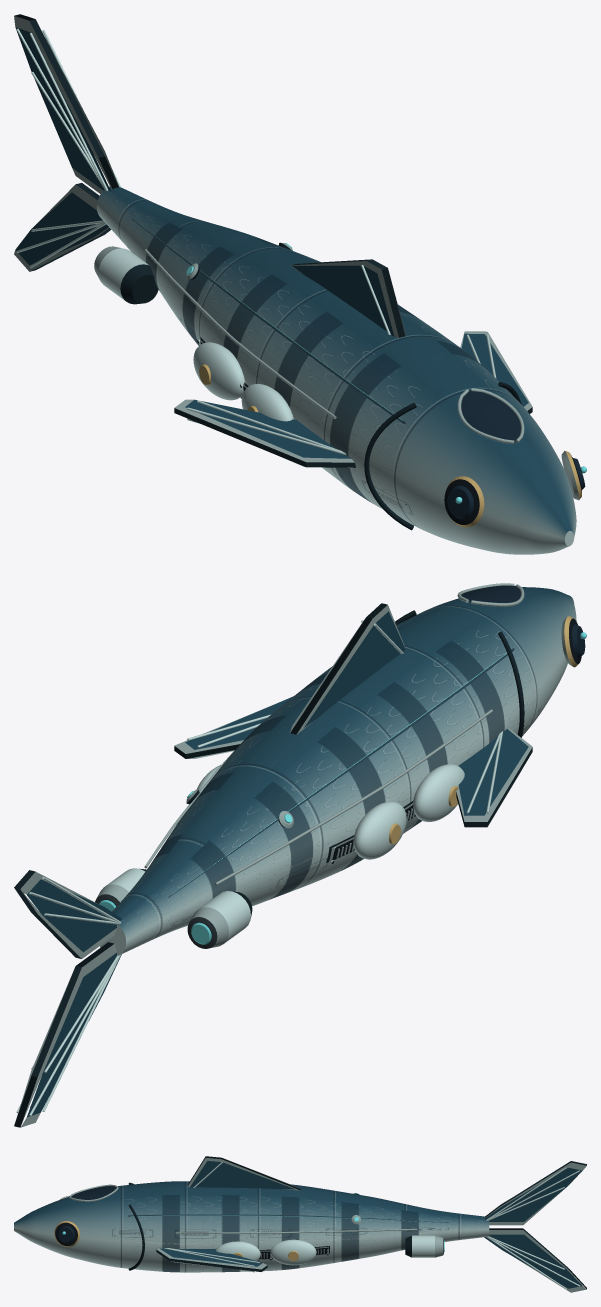
Rendered from ship.glb.
3 views of the same model, one above another, from view 1: azimuth 30°, elevation 25°; view 2: azimuth 150°, elevation 25°; view 3: azimuth 270°, elevation 25° (orthographic). The views are drawn at different scales.
Visible parts, largest first — view 1: pilotfish_hull; view 2: pilotfish_hull; view 3: pilotfish_hull.
Boxes of the visible parts, bbox=[...] form: pilotfish_hull: bbox=[14, 14, 586, 554]; pilotfish_hull: bbox=[14, 583, 586, 1127]; pilotfish_hull: bbox=[14, 1156, 586, 1292].
Bounding box in the file's own units: 5.24 × 4.16 × 16.
Materials: 1 (1 with a texture image).
